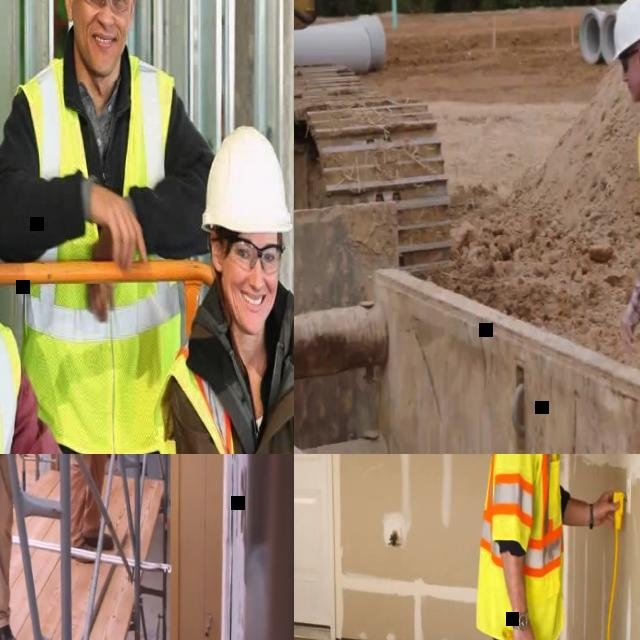Hardhat: (200, 121, 293, 238), (612, 0, 640, 58)
NO-Mask: (75, 23, 128, 77), (224, 282, 273, 334)
Person: (0, 0, 222, 454), (0, 47, 111, 454), (159, 123, 294, 454), (474, 454, 627, 640), (0, 454, 80, 640), (613, 0, 640, 390), (63, 454, 125, 565), (626, 46, 640, 104)
Safety Vest: (15, 51, 186, 454), (149, 342, 294, 454), (473, 454, 564, 603)
machinery: (294, 0, 451, 281)
